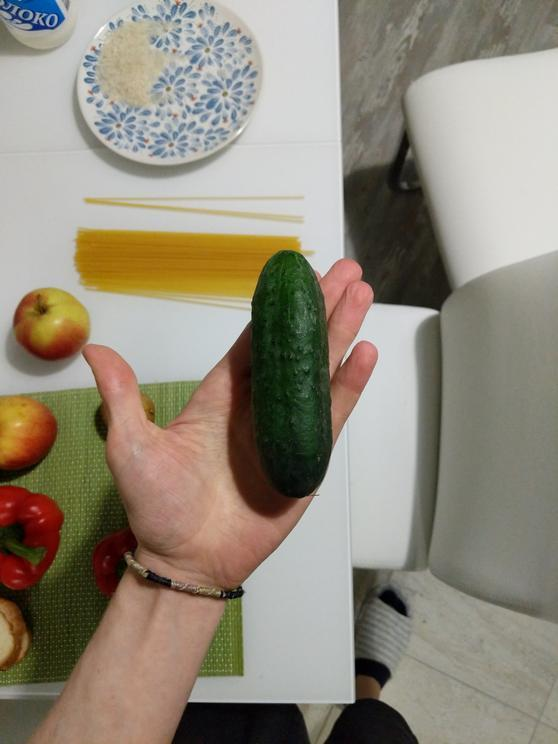cucumber: (240, 245, 333, 509)
milk: (1, 1, 79, 58)
pepper: (1, 488, 77, 587)
rice: (92, 15, 182, 111)
spaghetti: (65, 188, 311, 304)
